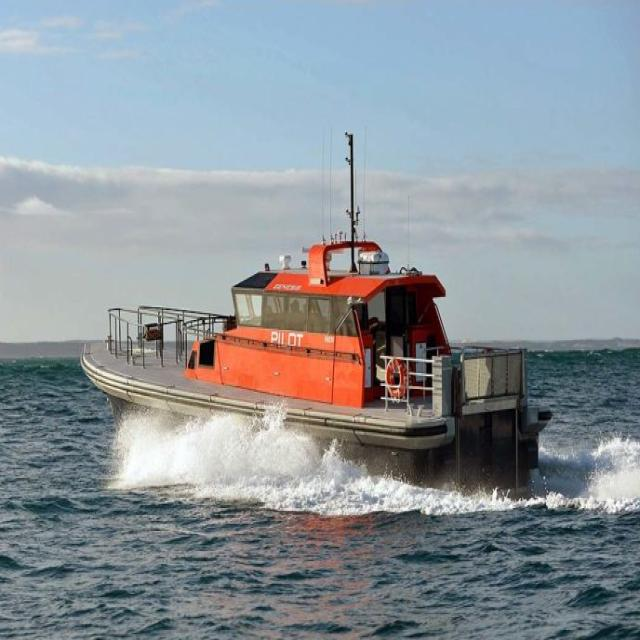houseboat: (77, 207, 536, 513)
